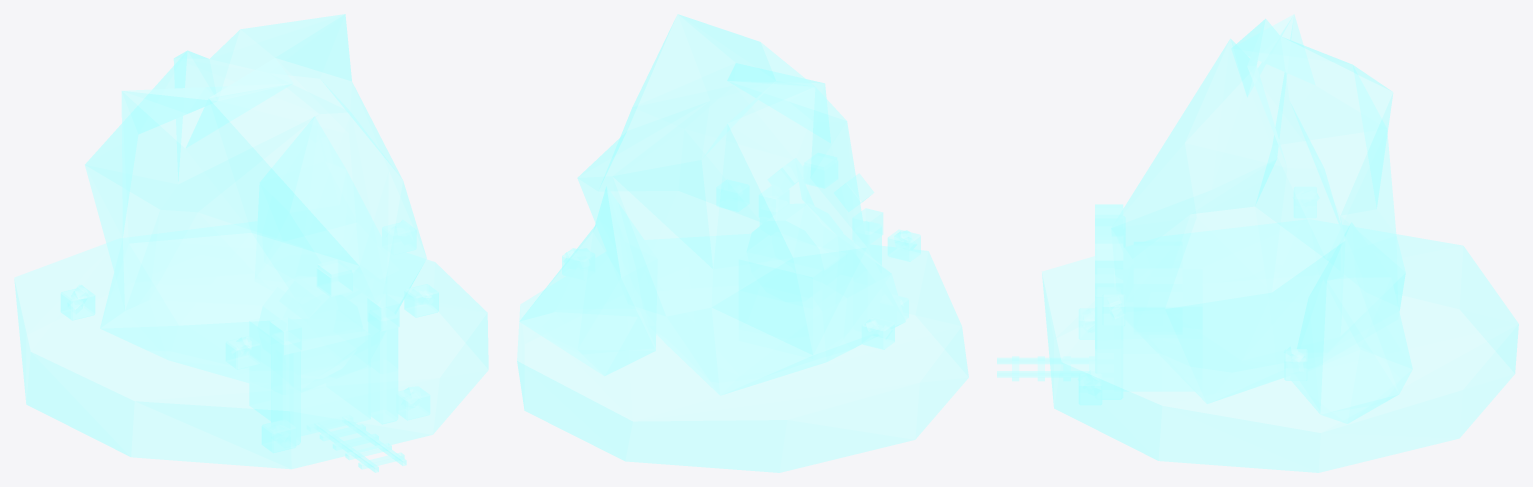
File: GH_Mountain_Coal.fbx
3 views of the same model, side by side, from view 1: azimuth 30°, elevation 25°; view 2: azimuth 150°, elevation 25°; view 3: azimuth 270°, elevation 25° (orthographic). The views are drawn at different scales.
Visible parts, largest first — view 1: SM_Mountain_Coal; view 2: SM_Mountain_Coal; view 3: SM_Mountain_Coal.
Boxes of the visible parts, <box> form: SM_Mountain_Coal: <box>14,14,488,472</box>; SM_Mountain_Coal: <box>517,14,968,472</box>; SM_Mountain_Coal: <box>997,14,1518,472</box>.
Bounding box in the file's own units: 10.1 × 8.21 × 11.17.
